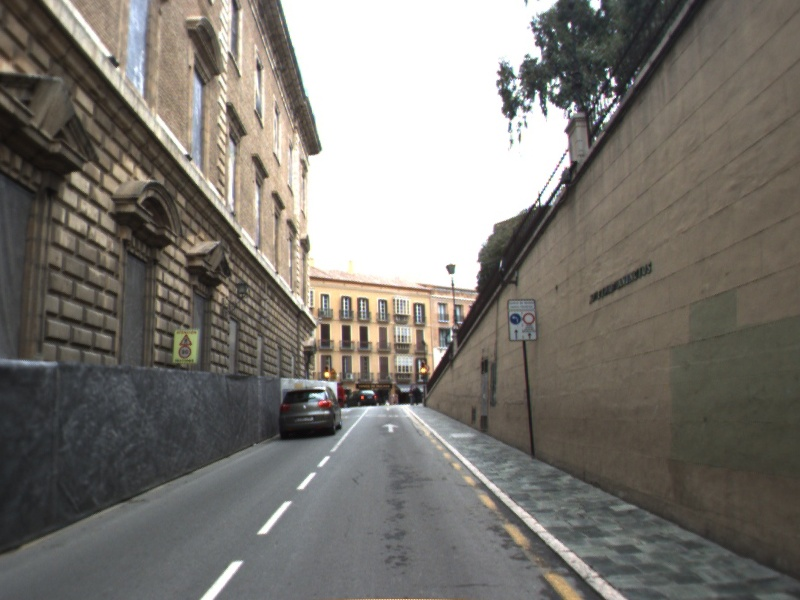STRAIGHT: (380, 421, 401, 434)
